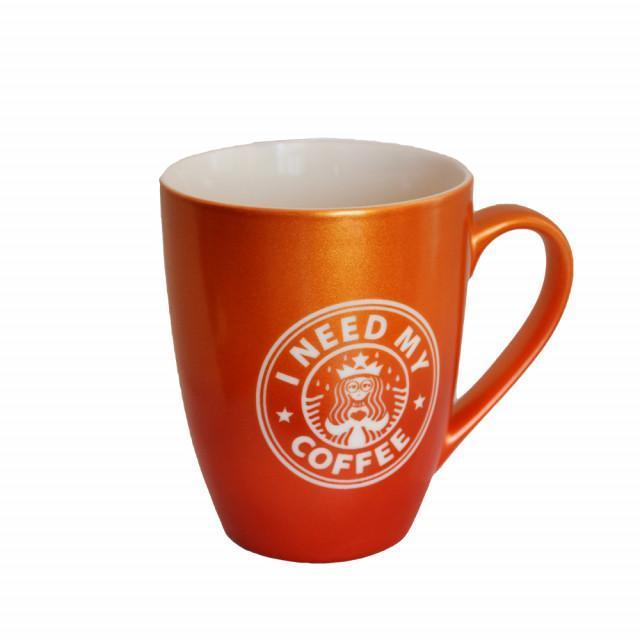taza: (142, 137, 588, 564)
